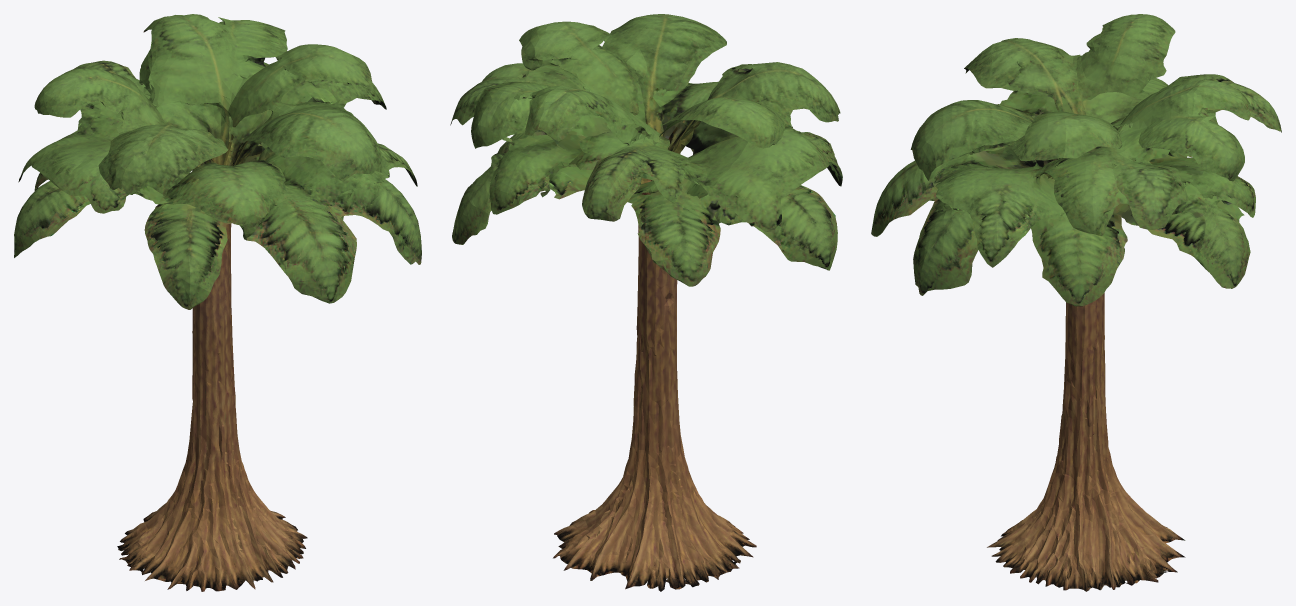
The picture shows the model from 3 angles, left to right: view 1: azimuth 30°, elevation 25°; view 2: azimuth 150°, elevation 25°; view 3: azimuth 270°, elevation 25°; orthographic projection. The views are drawn at different scales.
Visible parts, largest first — view 1: world; view 2: world; view 3: world.
Boxes of the visible parts, x1,y1,x2,y2 form: world: (14, 14, 421, 591); world: (450, 14, 842, 591); world: (871, 14, 1281, 591).
Size of the model in its own units: 0.6789 by 0.878 by 0.6774.
Materials: 1 (1 with a texture image).
